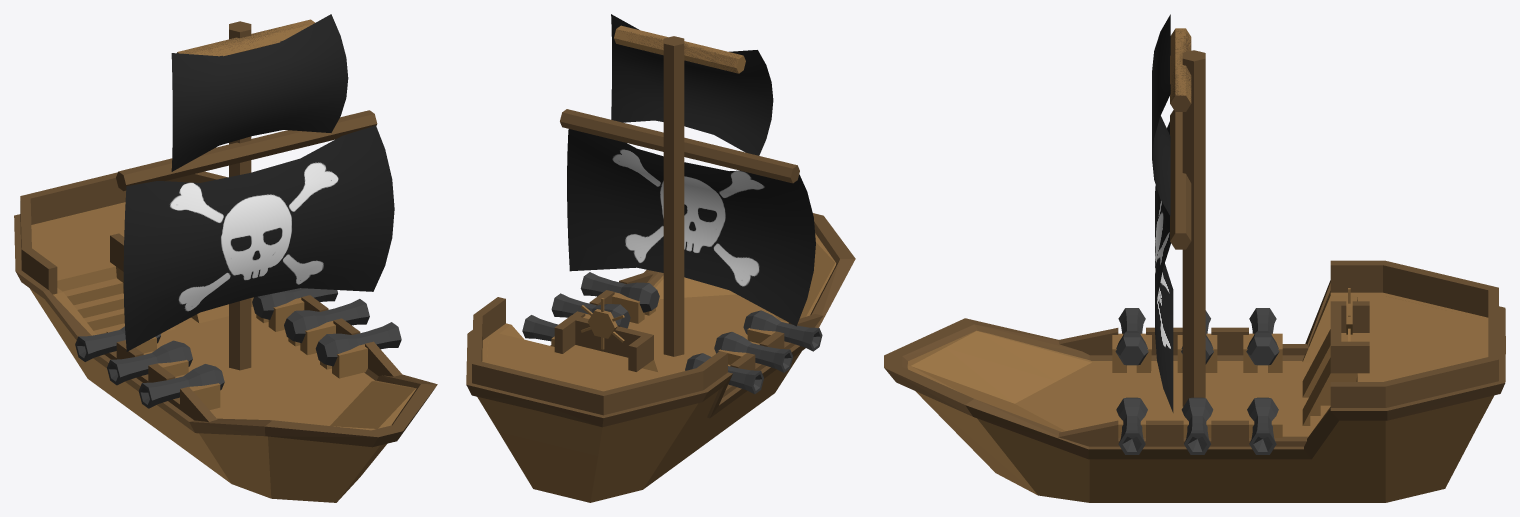
File: Pirate_Ship (1).fbx
3 renders of one model, left to right at view 1: azimuth 30°, elevation 25°; view 2: azimuth 150°, elevation 25°; view 3: azimuth 270°, elevation 25°, orthographic. The views are drawn at different scales.
Visible parts, largest first — view 1: Plane003; view 2: Plane003; view 3: Plane003.
Boxes of the visible parts, x1,y1,x2,y2 form: Plane003: (14, 14, 437, 502); Plane003: (466, 14, 855, 502); Plane003: (884, 14, 1505, 502).
Size of the model in its own units: 108 by 155 by 208.
